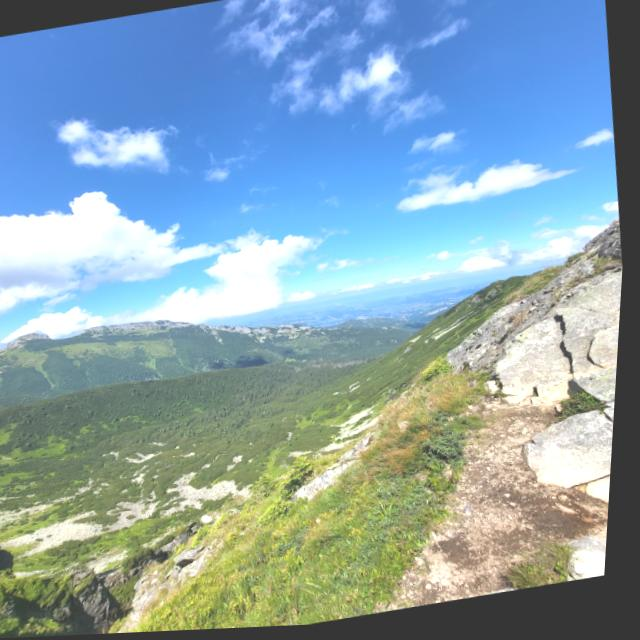Giewont: (0, 292, 111, 376)
